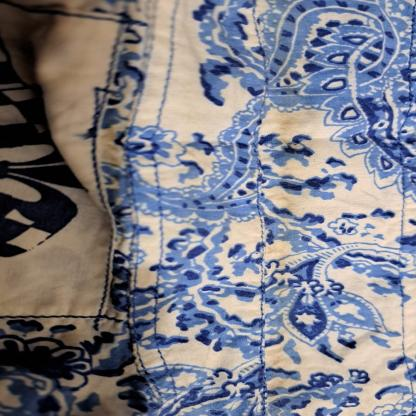spot: (269, 108, 326, 146), (282, 189, 298, 211)
